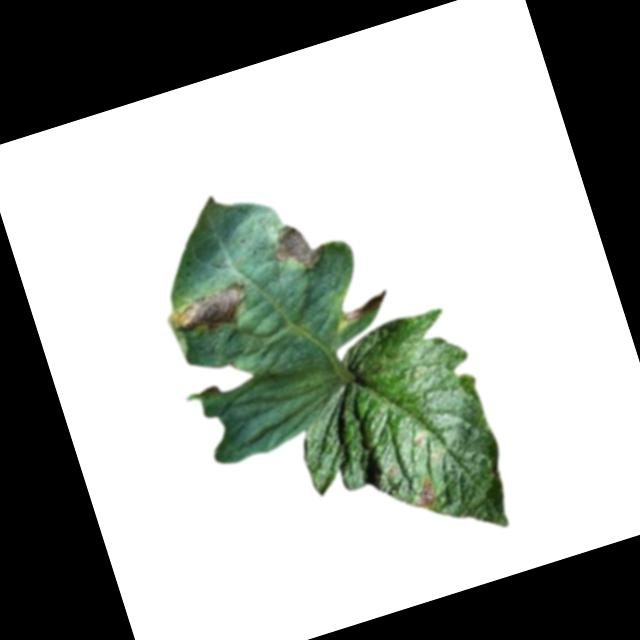Early_blight: (163, 276, 257, 347), (266, 215, 332, 282), (339, 289, 393, 325), (407, 476, 442, 513)
